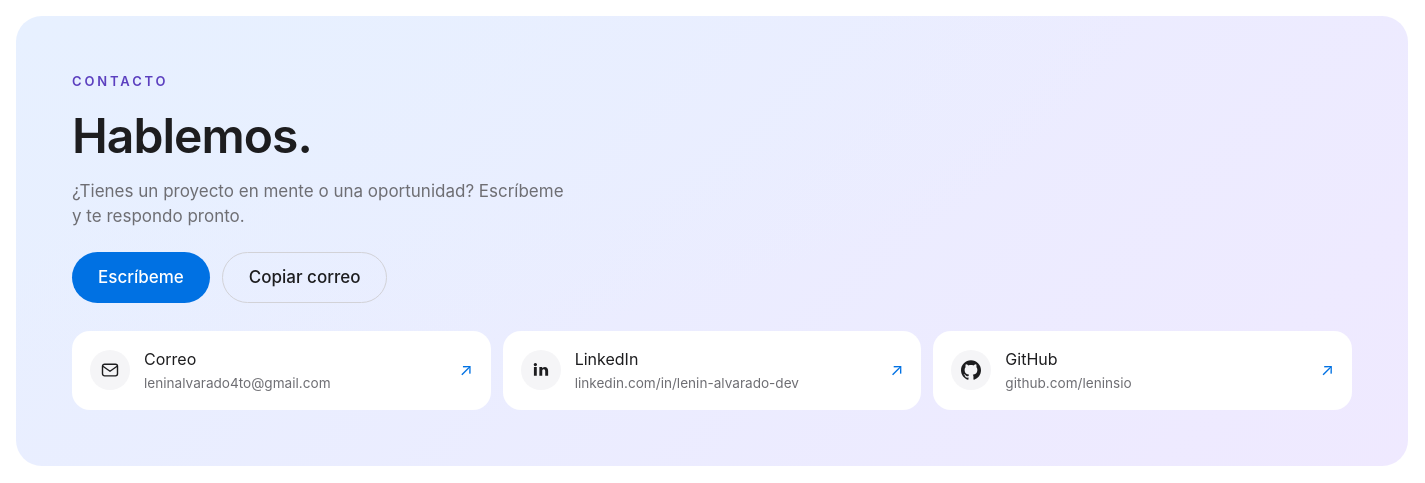
Scenario: ContactSection › copiar correo escribe en el portapapeles y muestra Copiado
Click the button "Copiar correo".
click(305, 277)  # box [222,252,388,303]
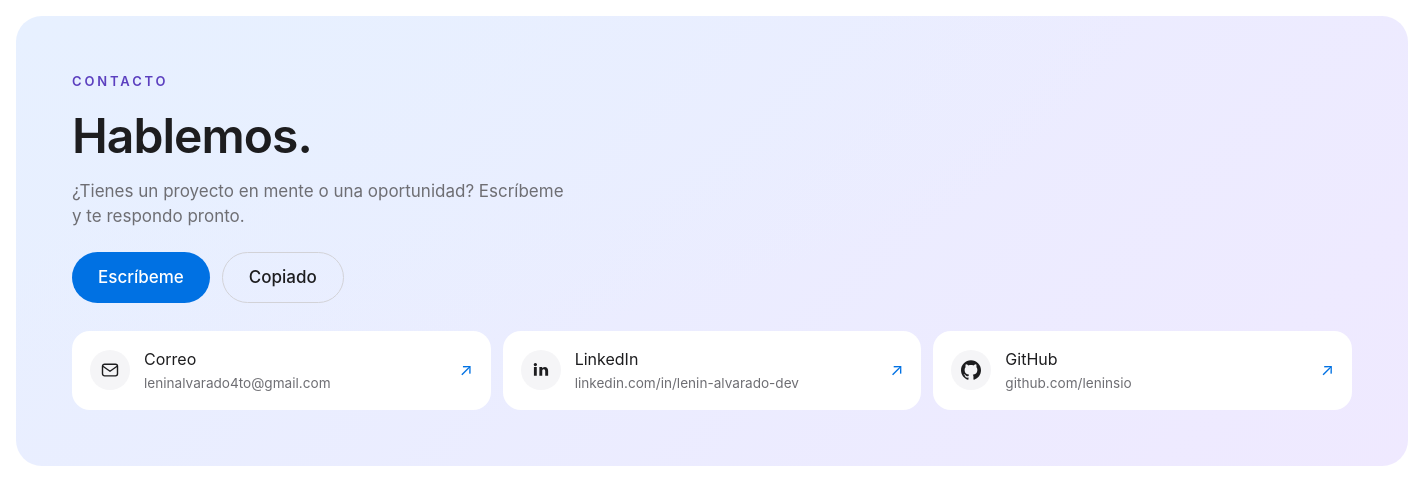
Expected: the button "Copiado" is shown, [222,252,344,303]
